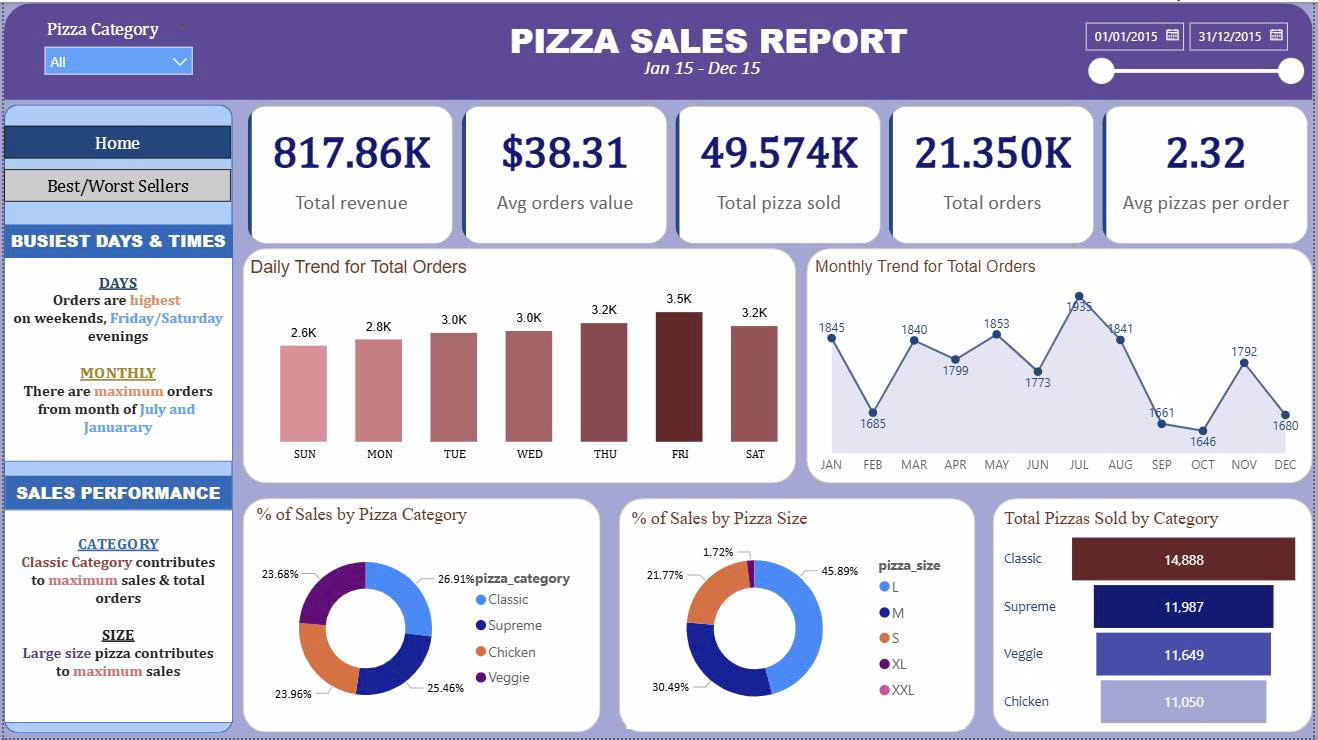

What the dashboard file says about the page in this screenshot:
{"tool":"powerbi","page":{"name":"Home","canvas":[1280,720],"ordinal":0},"visuals":[{"type":"textbox","box":[478.8,10,419.9,54.9],"z":0,"group":"g1"},{"type":"cardVisual","fields":{"Data":["All measures.Total revenue","All measures.Avg orders value","All measures.Total orders","All measures.Total orders1","All measures.Avg pizza per order"]},"box":[233.3,96.1,1047,145.5],"z":0},{"type":"shape","box":[0,1.4,1280.3,94.7],"z":1000},{"type":"textbox","box":[620.1,48.4,137.2,34.3],"z":1000,"group":"g1"},{"type":"group","id":"g1","title":"Group 1","box":[478.8,10,420,72.5],"z":2000},{"type":"shape","box":[0,100.2,223.7,614.8],"z":3000},{"type":"shape","box":[233.8,241.2,541.2,230],"z":4000},{"type":"shape","box":[233.3,485.8,349.9,229.2],"z":5000},{"type":"shape","box":[601,485.8,348.5,229.2],"z":6000},{"type":"shape","box":[967.4,485.8,312.9,229.2],"z":7000},{"type":"shape","box":[785,241.2,495,230],"z":8000},{"type":"clusteredColumnChart","title":"Daily Trend for Total Orders","fields":{"Y":["All measures.Total orders"],"Category":["pizza_sales.Order day"]},"box":[236.2,250,557.5,208.8],"z":9000},{"type":"lineChart","title":"Monthly Trend for Total Orders","fields":{"Y":["All measures.Total orders"],"Category":["pizza_sales.Month"]},"box":[788.8,250,486.2,221.2],"z":10000},{"type":"donutChart","title":"% of Sales by Pizza Category","fields":{"Category":["pizza_sales.pizza_category"],"Y":["All measures.Total revenue"]},"box":[242.5,491.2,332.5,223.8],"z":11000},{"type":"donutChart","title":"% of Sales by Pizza Size","fields":{"Category":["pizza_sales.pizza_size"],"Y":["All measures.Total revenue"]},"box":[608.8,495,331.2,216.2],"z":12000},{"type":"funnel","title":"Total Pizzas Sold by Category","fields":{"Category":["pizza_sales.pizza_category"],"Y":["All measures.Total pizza sold"]},"box":[973.8,495,300,220],"z":13000},{"type":"slicer","fields":{"Values":["pizza_sales.pizza_category"]},"box":[28.8,11.2,165,70],"z":14000},{"type":"slicer","fields":{"Values":["pizza_sales.order_date"]},"box":[1045,10,235,86.2],"z":15000},{"type":"textbox","box":[0,241.2,223.8,208.8],"z":16000},{"type":"textbox","box":[0,496.2,223.8,208.8],"z":17000},{"type":"textbox","box":[0,217.5,223.8,32.5],"z":18000},{"type":"textbox","box":[1.2,463.5,221.3,33],"z":19000},{"type":"pageNavigator","box":[0,120.8,222.3,75.5],"z":20000}]}

Visuals, with their boxes in screenshot pixels (x1, y1, x2, y2), scaled from the page's 1280x720 canvas onto the 1318x740 screenshot:
textbox: left=493, top=10, right=925, bottom=67
cardVisual - All measures.Total revenue x All measures.Avg orders value: left=240, top=99, right=1317, bottom=248
shape: left=0, top=1, right=1317, bottom=99
textbox: left=639, top=50, right=780, bottom=85
"Group 1" group: left=493, top=10, right=925, bottom=85
shape: left=0, top=103, right=230, bottom=735
shape: left=241, top=248, right=798, bottom=484
shape: left=240, top=499, right=601, bottom=735
shape: left=619, top=499, right=978, bottom=735
shape: left=996, top=499, right=1317, bottom=735
shape: left=808, top=248, right=1317, bottom=484
"Daily Trend for Total Orders" clusteredColumnChart: left=243, top=257, right=817, bottom=472
"Monthly Trend for Total Orders" lineChart: left=812, top=257, right=1313, bottom=484
"% of Sales by Pizza Category" donutChart: left=250, top=505, right=592, bottom=735
"% of Sales by Pizza Size" donutChart: left=627, top=509, right=968, bottom=731
"Total Pizzas Sold by Category" funnel: left=1003, top=509, right=1312, bottom=735
slicer - pizza_sales.pizza_category: left=30, top=12, right=200, bottom=83
slicer - pizza_sales.order_date: left=1076, top=10, right=1317, bottom=99
textbox: left=0, top=248, right=230, bottom=462
textbox: left=0, top=510, right=230, bottom=725
textbox: left=0, top=224, right=230, bottom=257
textbox: left=1, top=476, right=229, bottom=510
pageNavigator: left=0, top=124, right=229, bottom=202
